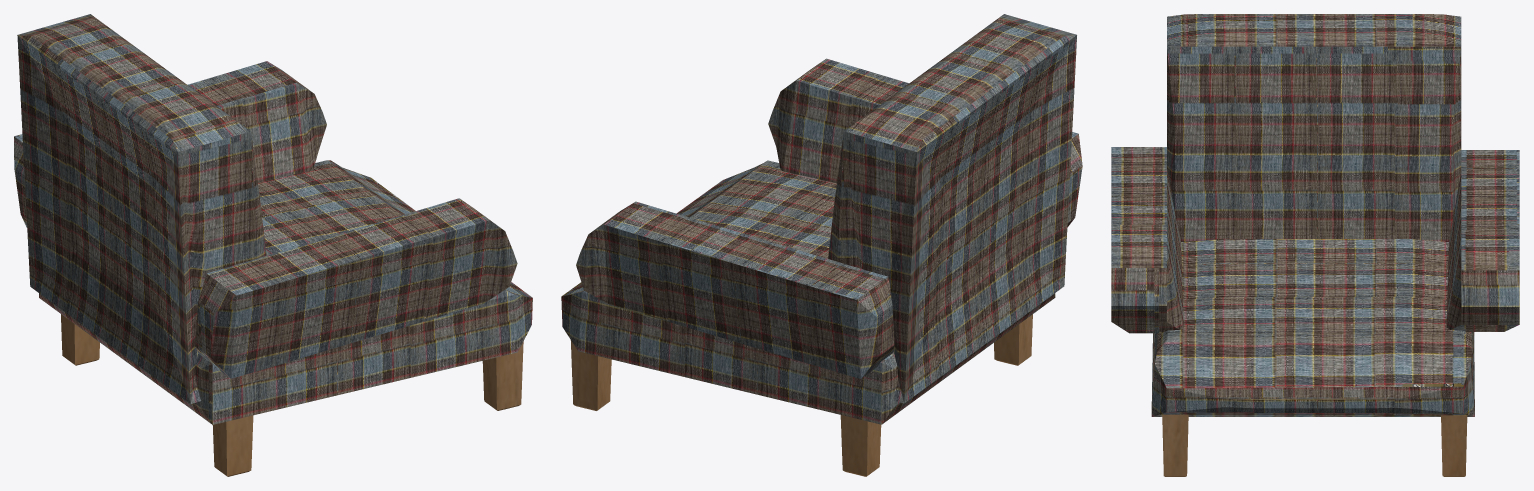
File: smallcouch.glb
3 renders of one model, left to right at view 1: azimuth 30°, elevation 25°; view 2: azimuth 150°, elevation 25°; view 3: azimuth 270°, elevation 25°, orthographic. The views are drawn at different scales.
Parts seen in each view (by area): view 1: Couch; view 2: Couch; view 3: Couch.
Part boxes in pixels (<box>): Couch: <box>14,14,532,476</box>; Couch: <box>561,14,1082,476</box>; Couch: <box>1111,14,1519,476</box>.
Bounding box in the file's own units: 404 × 373 × 433.
Materials: 1 (1 with a texture image).
